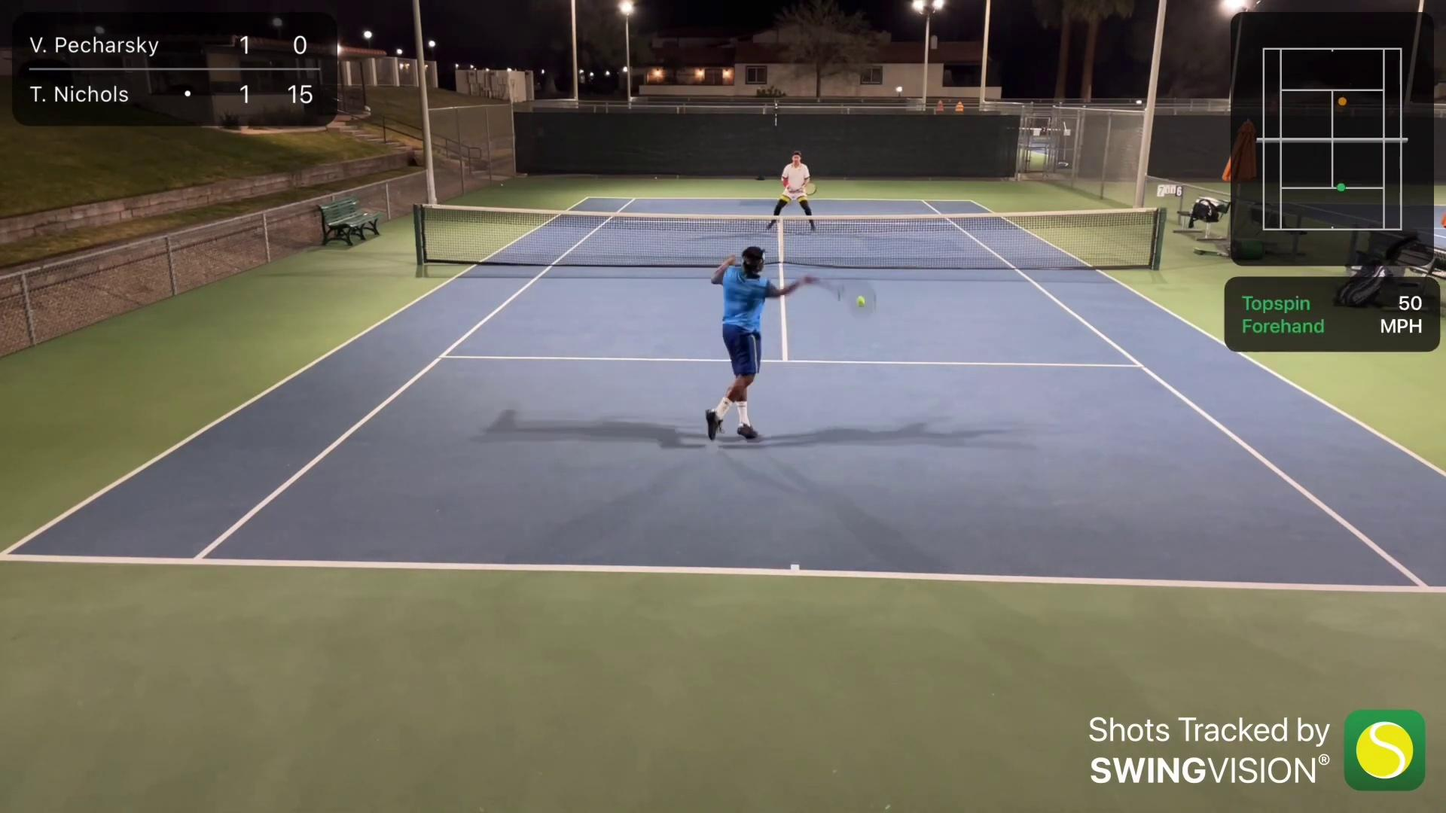ball: (856, 294, 868, 312)
